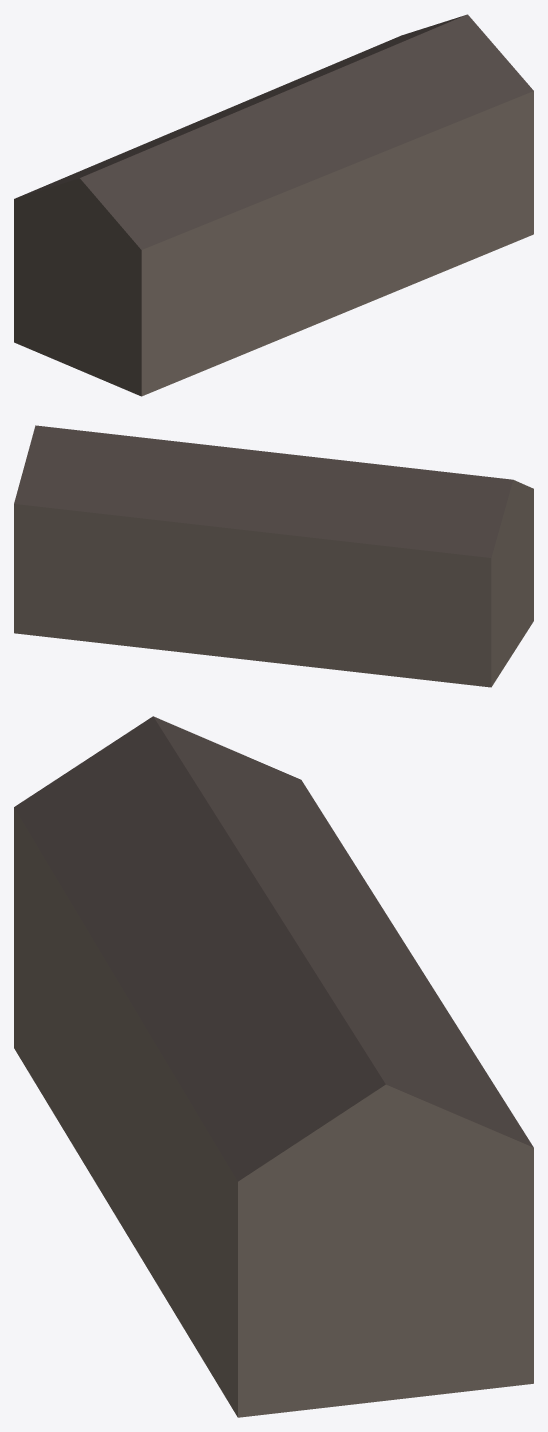
3 views of the same model, one above another, from view 1: azimuth 30°, elevation 25°; view 2: azimuth 150°, elevation 25°; view 3: azimuth 270°, elevation 25° (orthographic). The views are drawn at different scales.
Parts seen in each view (by area): view 1: HP-w757497641; view 2: HP-w757497641; view 3: HP-w757497641.
Boxes of the visible parts, left/top/right/bottom form: HP-w757497641: left=14, top=14, right=533, bottom=396; HP-w757497641: left=14, top=425, right=533, bottom=687; HP-w757497641: left=14, top=716, right=533, bottom=1417.
Bounding box in the file's own units: 32.87 × 12.06 × 17.97.
